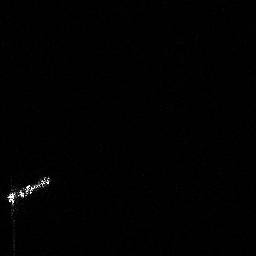ship: (3, 171, 54, 208)
